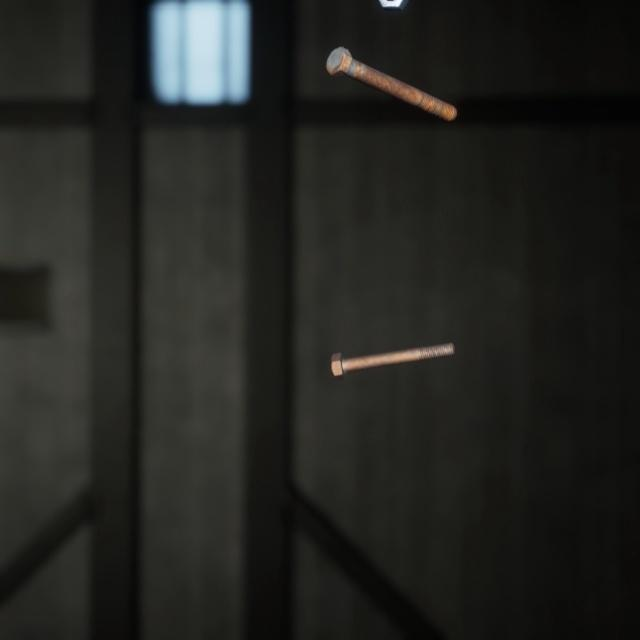bolt: (321, 32, 461, 115), (326, 320, 459, 367)
